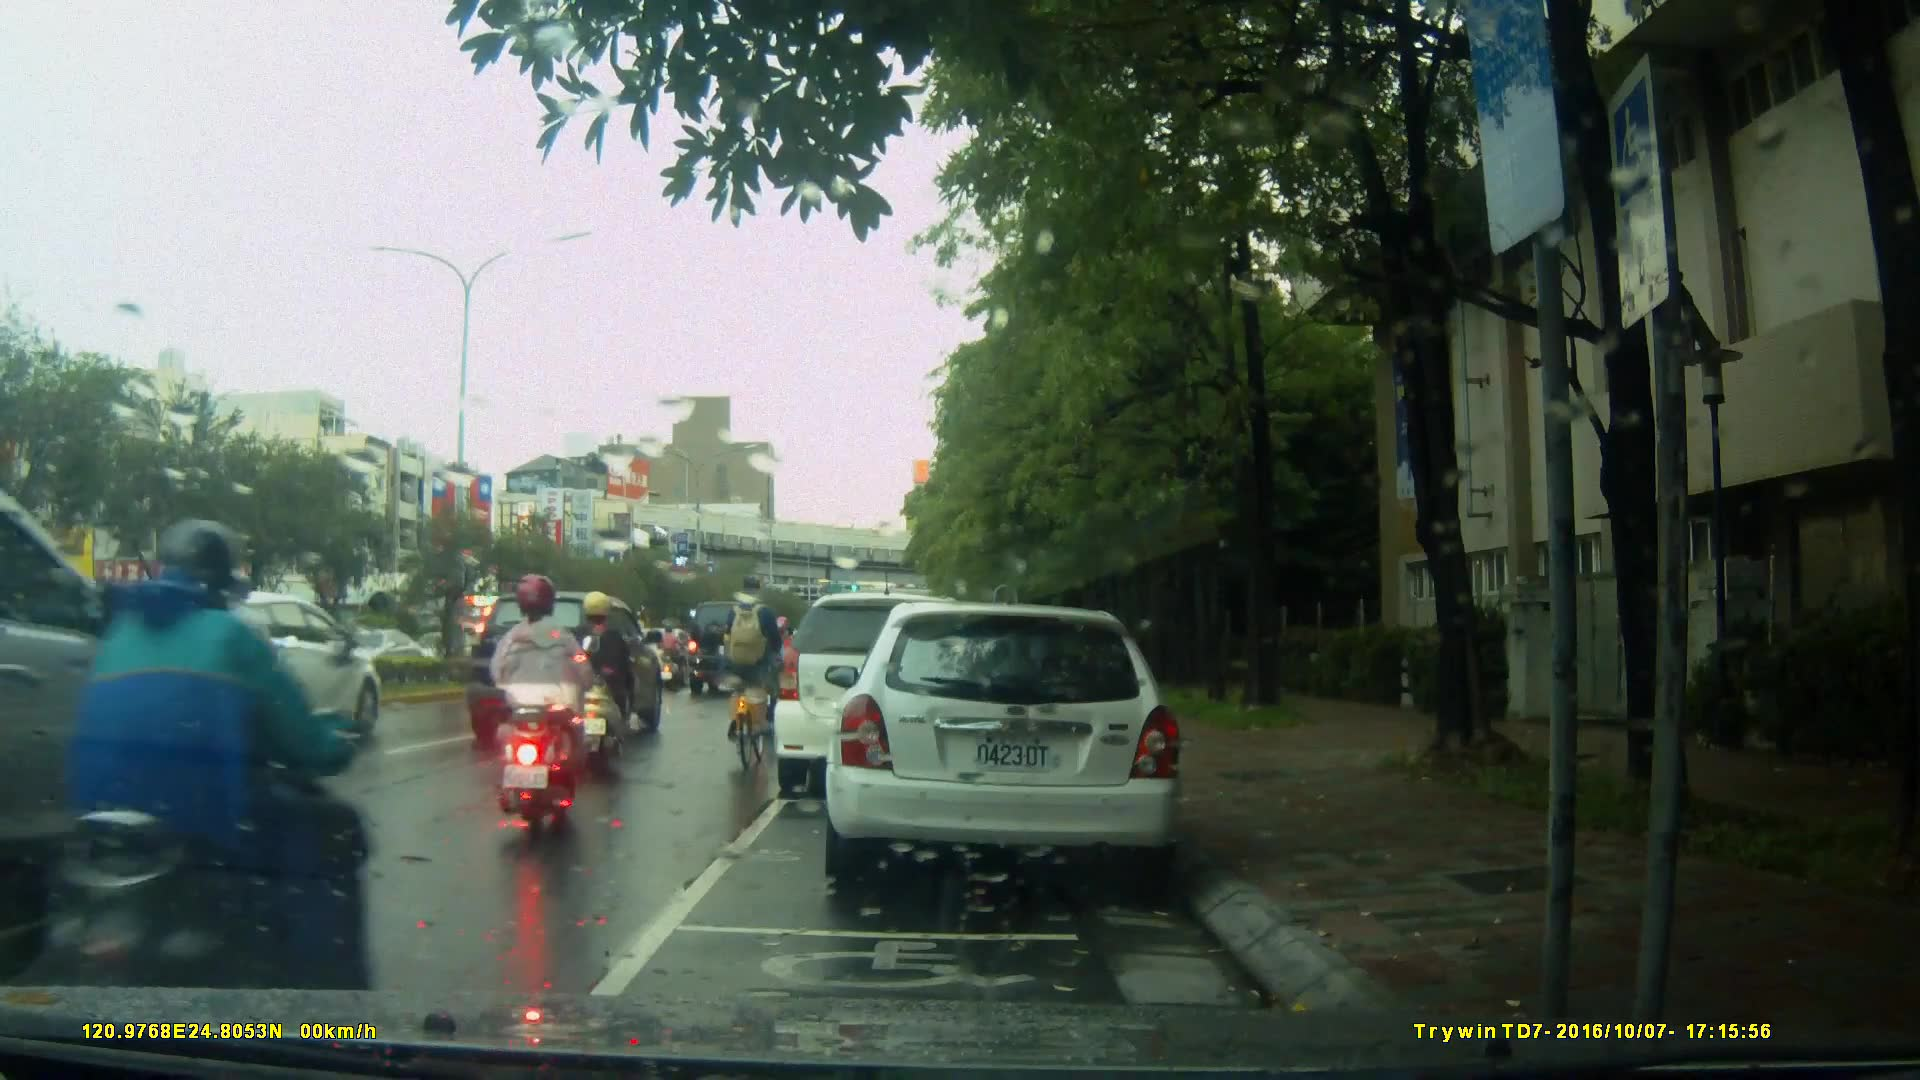rider: (36, 519, 348, 1073), (486, 574, 603, 833), (721, 578, 784, 774), (568, 589, 633, 769), (656, 618, 687, 693)
vehicle: (1, 485, 292, 990), (822, 604, 1188, 883), (774, 595, 995, 802), (457, 590, 666, 756)
